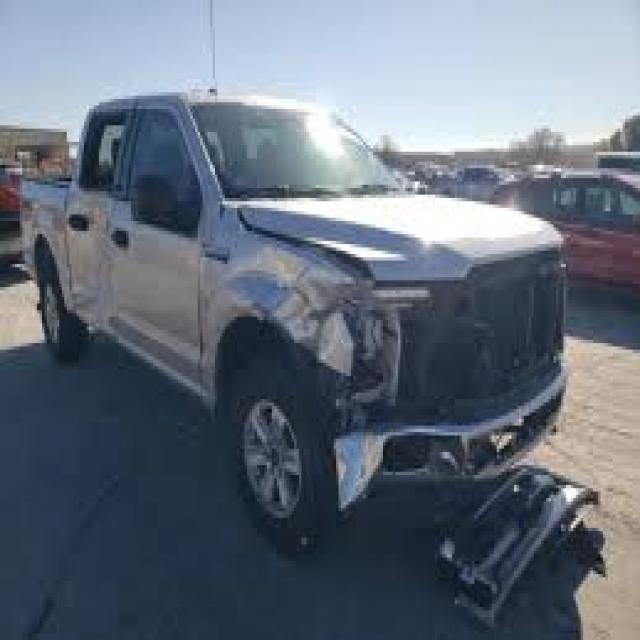moderate: (234, 180, 566, 560)
